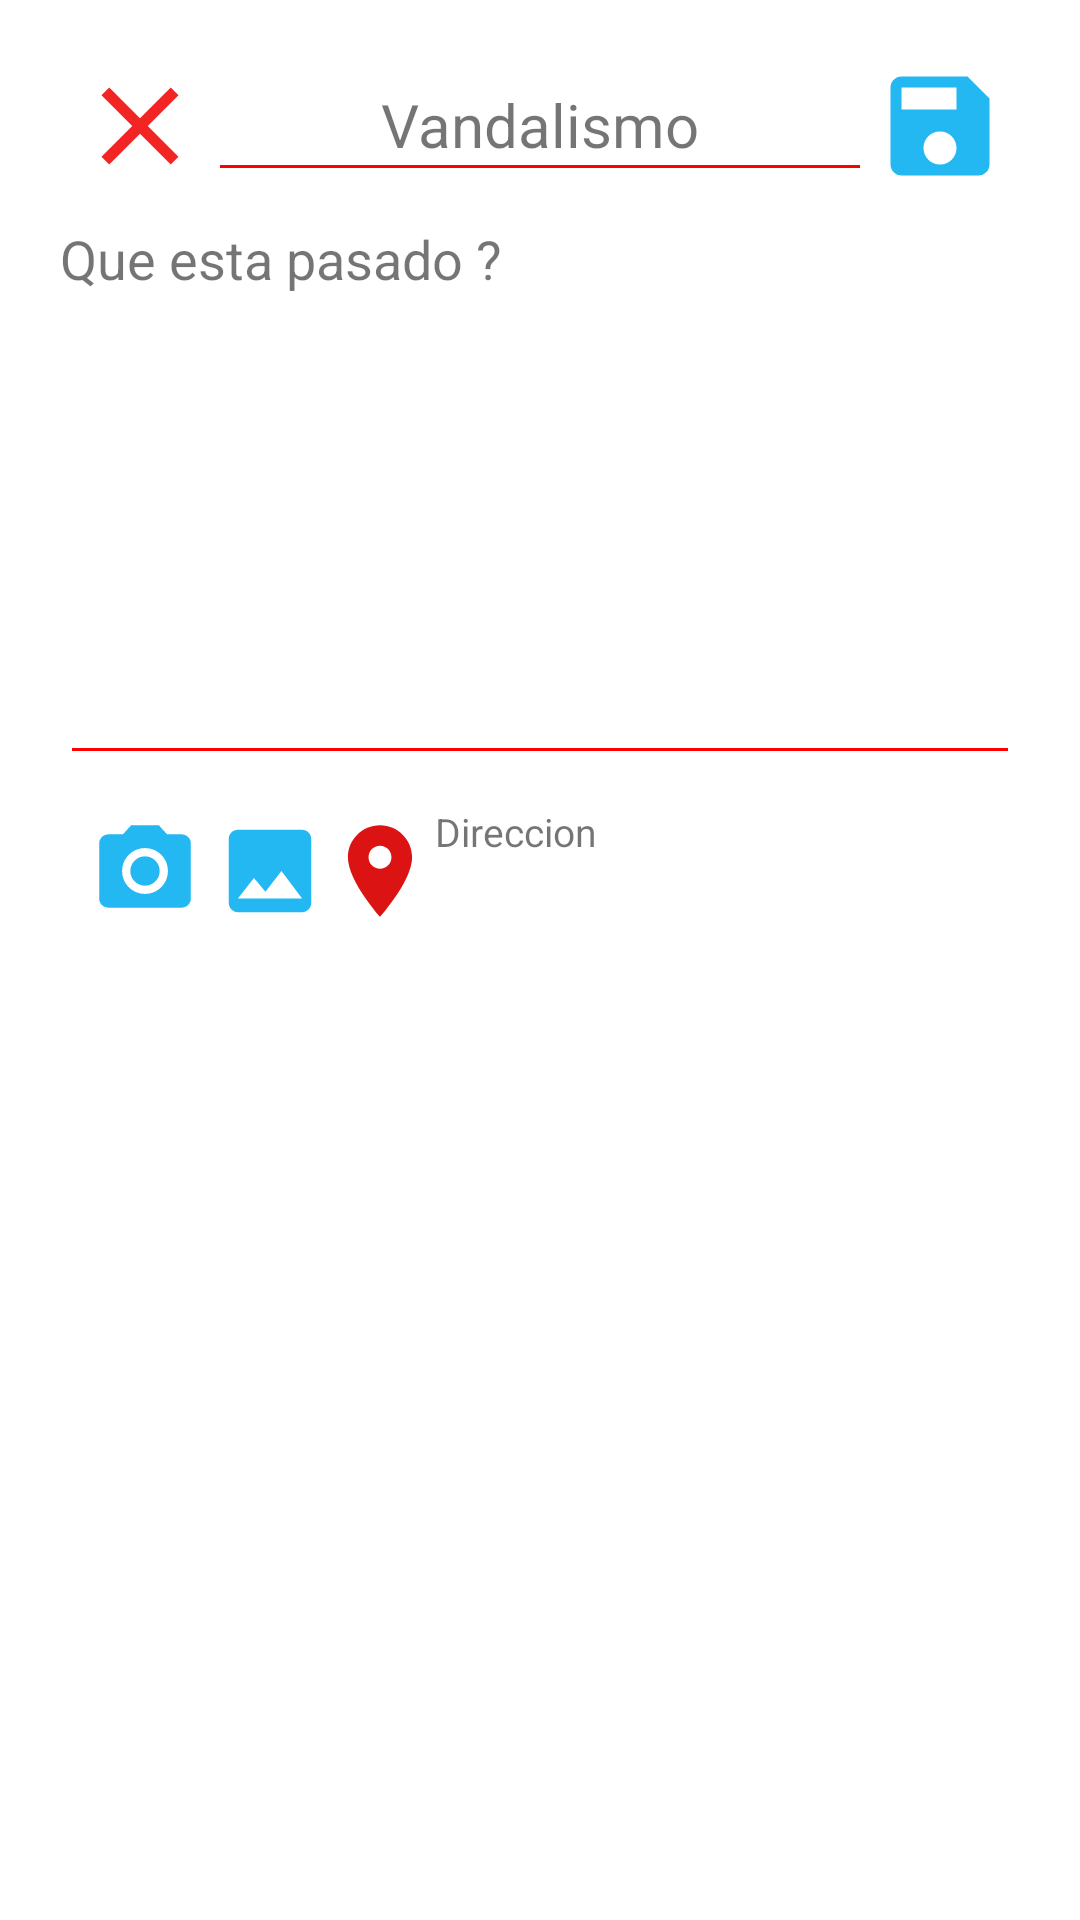

Named icons in this screenshot (1080px×1920px) and their bounding boxes, (x1, y1, x2, y2):
camera: (99, 825, 191, 908)
close: (101, 87, 179, 165)
location: (348, 825, 412, 917)
photo: (228, 829, 312, 913)
save: (890, 76, 990, 176)
